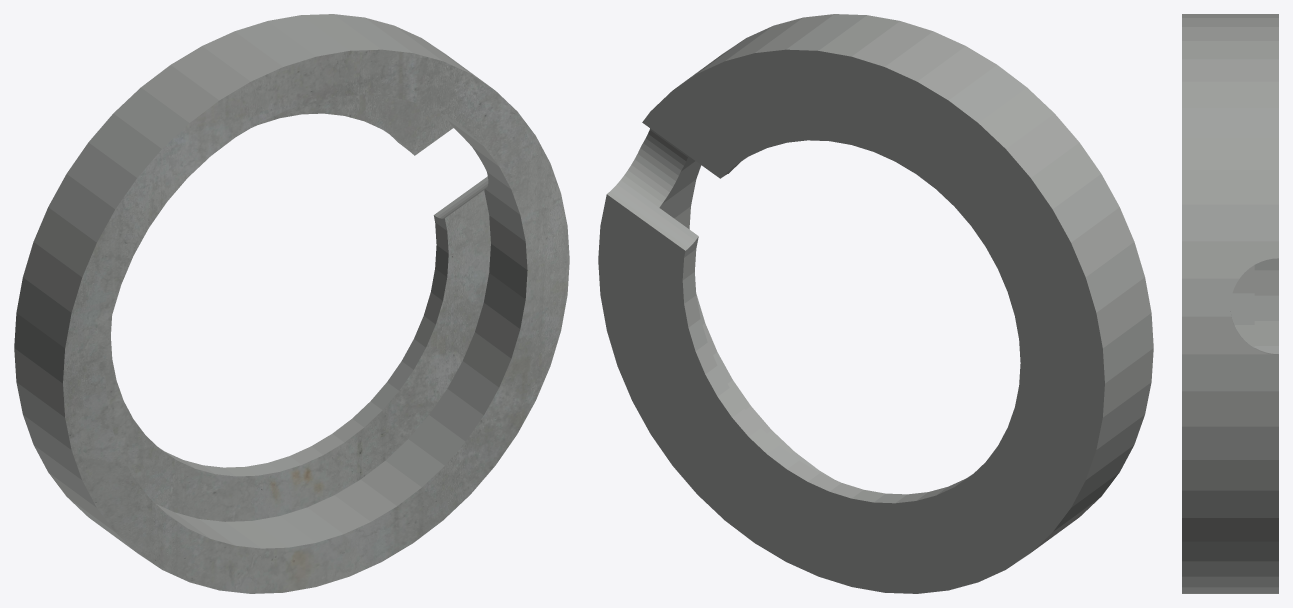
File: pool_018.obj
3 views of the same model, side by side, from view 1: azimuth 30°, elevation 25°; view 2: azimuth 150°, elevation 25°; view 3: azimuth 270°, elevation 25° (orthographic).
Size of the model in its own units: 12 by 12 by 2.
